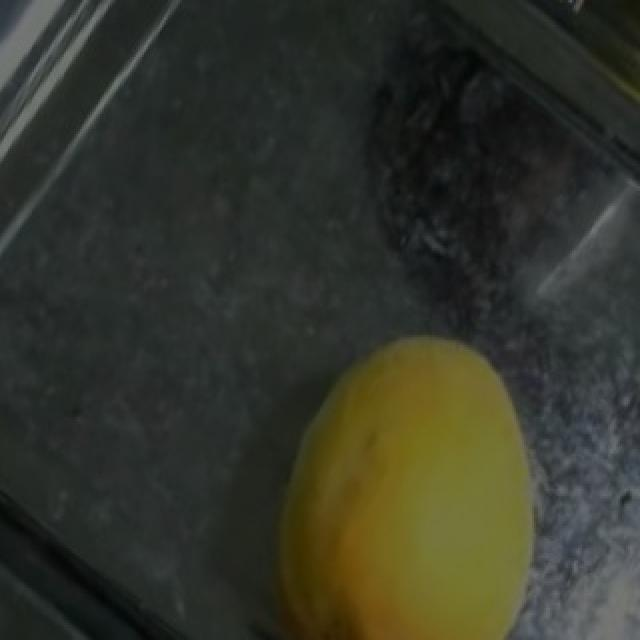fruit: (240, 295, 600, 640)
